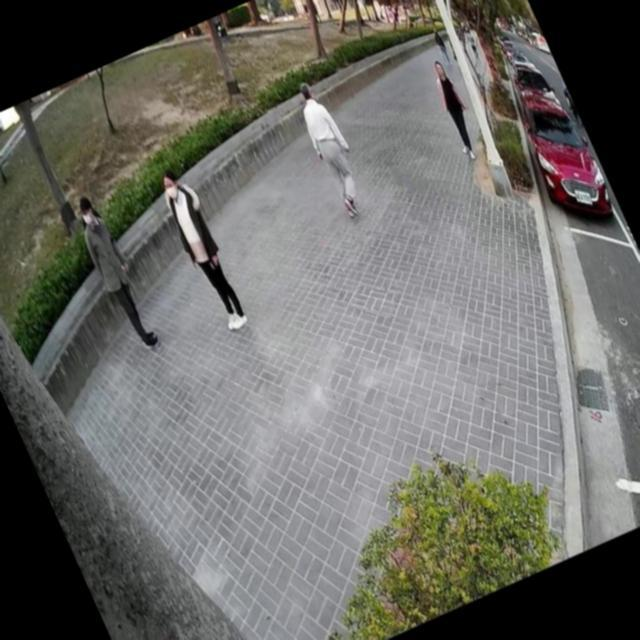person: (147, 157, 255, 337), (64, 188, 164, 359), (284, 71, 378, 225), (421, 55, 488, 167), (426, 23, 456, 71), (459, 21, 485, 63)
